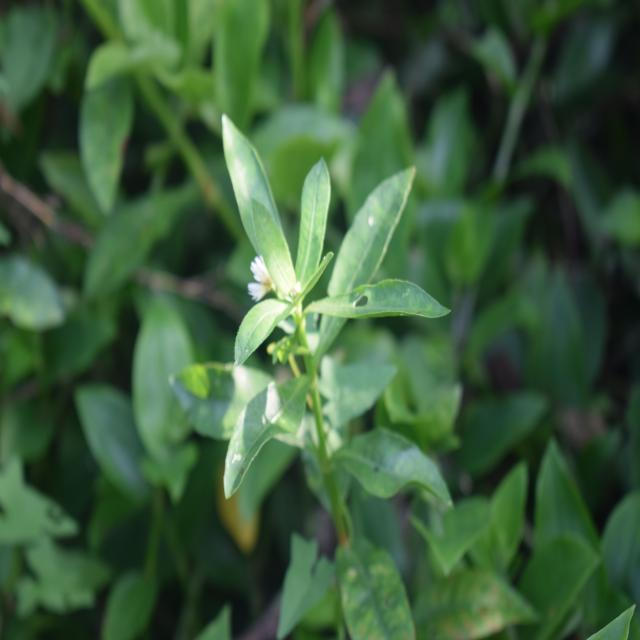Alligatorweed: (192, 124, 432, 564)
